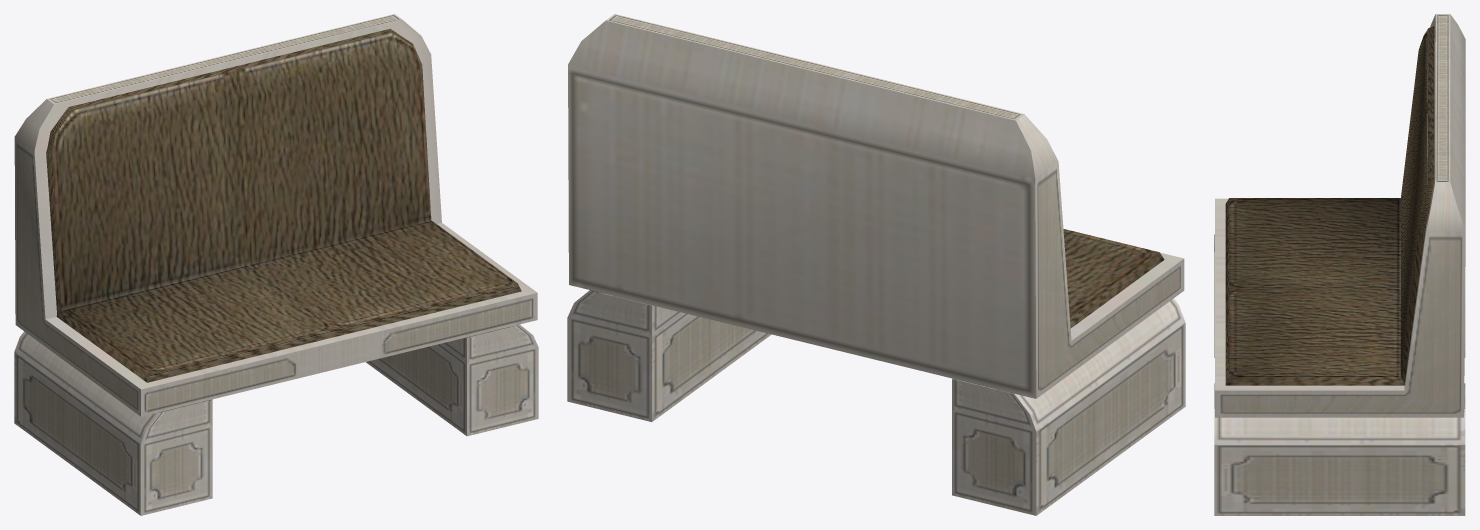
The model's file is frn_all_eleg_love_seat_s01_l0.fbx.
3 views of the same model, side by side, from view 1: azimuth 30°, elevation 25°; view 2: azimuth 150°, elevation 25°; view 3: azimuth 270°, elevation 25° (orthographic). The views are drawn at different scales.
Parts seen in each view (by area): view 1: mesh_node; view 2: mesh_node; view 3: mesh_node.
Part boxes in pixels (x1=…): mesh_node: x1=14, y1=14, x2=538, y2=515; mesh_node: x1=567, y1=14, x2=1185, y2=515; mesh_node: x1=1214, y1=14, x2=1465, y2=515.
Size of the model in its own units: 1.28 by 0.9972 by 0.7077.
Materials: 1 (1 with a texture image).
